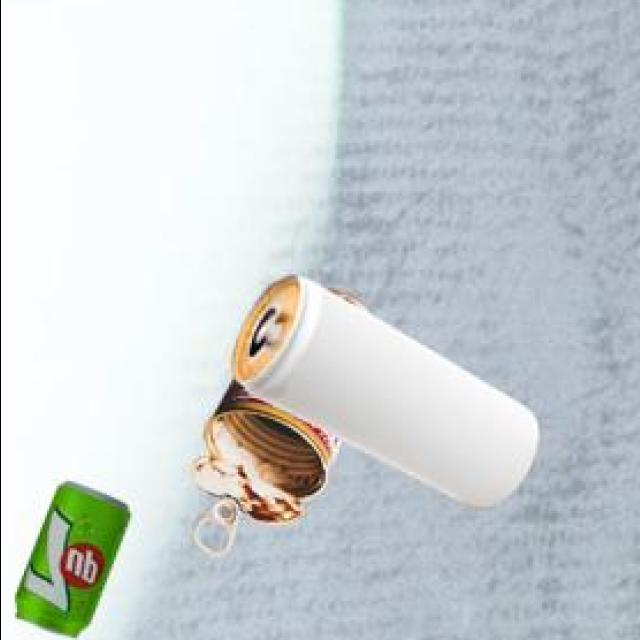logam: (234, 280, 540, 512), (195, 294, 372, 558), (17, 485, 132, 640)
